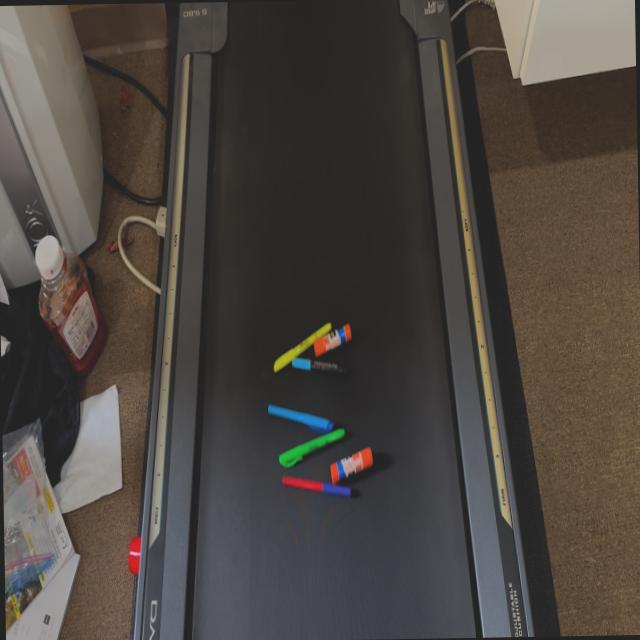Trash: (266, 319, 374, 505)
